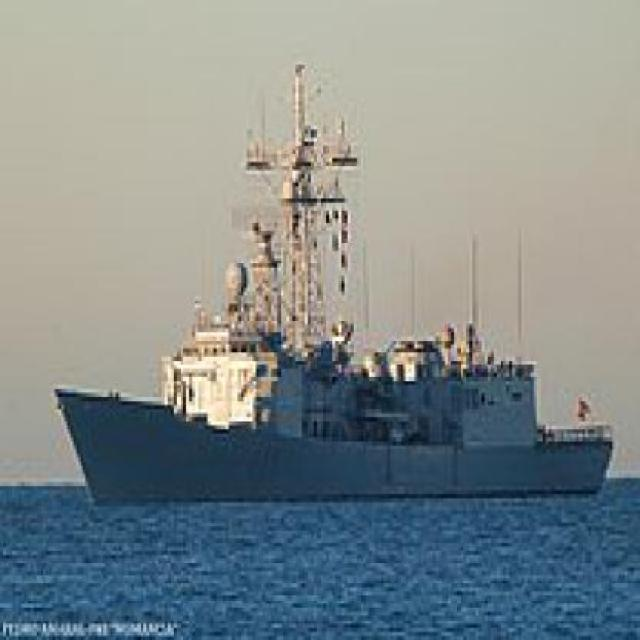warship2: (56, 58, 620, 544)
